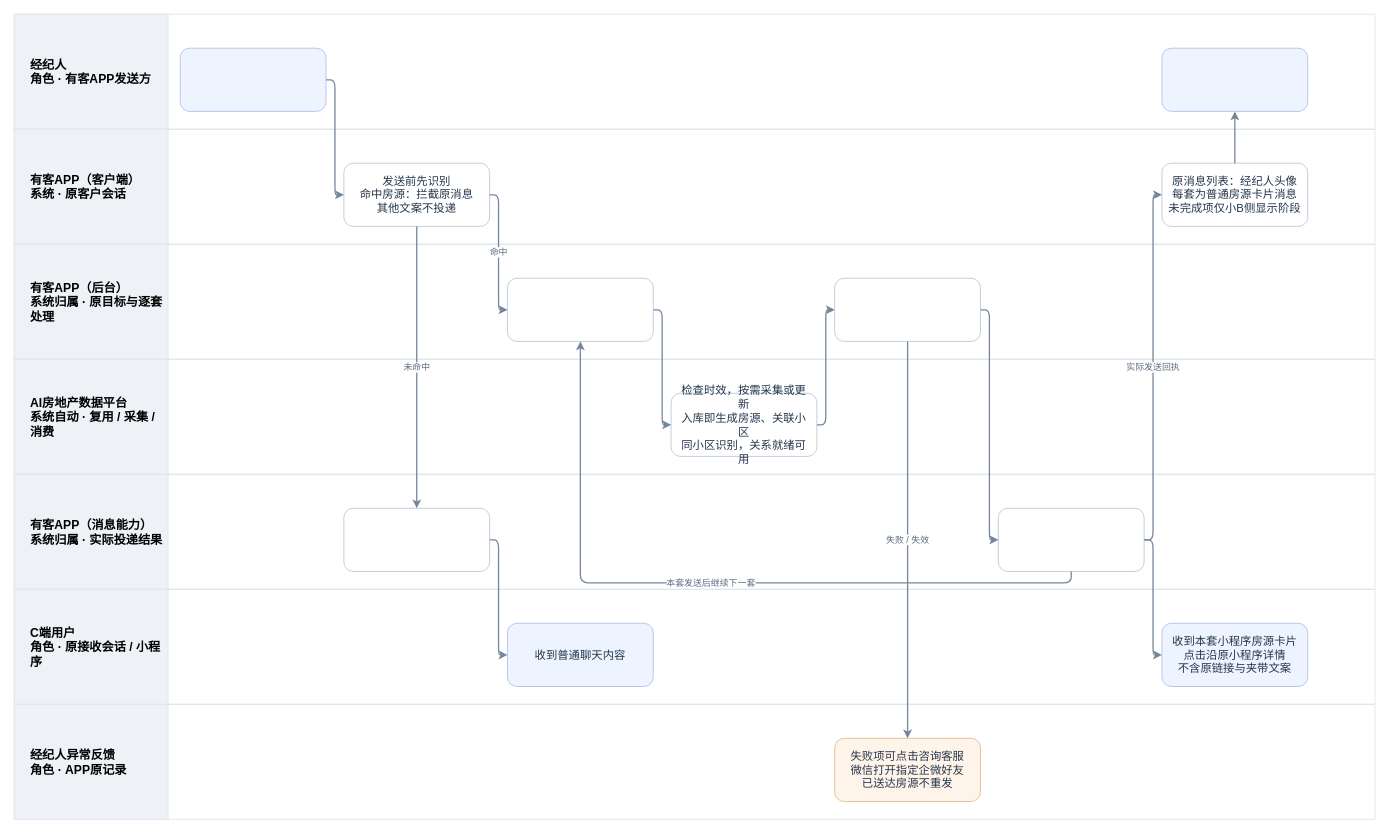
Some shapes in this 1389 by 833 pixel diagram are drawn without their labels. Each missing label, with the centre of its shape:
一条消息：文案＋多链接 在原输入框点发送: point (252, 79)
复核原会话仍可发送 本套就绪立即发卡片 成功后才显示已发送: point (1071, 539)
提取、归一、去重 复用已有待处理项 保留原身份与会话: point (580, 309)
未命中房源链接 沿原普通消息流程发送: point (416, 539)
检查当前身份和权限 确保本人关系有效 仅浏览不建立关联: point (907, 309)
经纪人头像＋房源卡片 与原来发房消息相同 可继续发送新消息: point (1234, 79)
